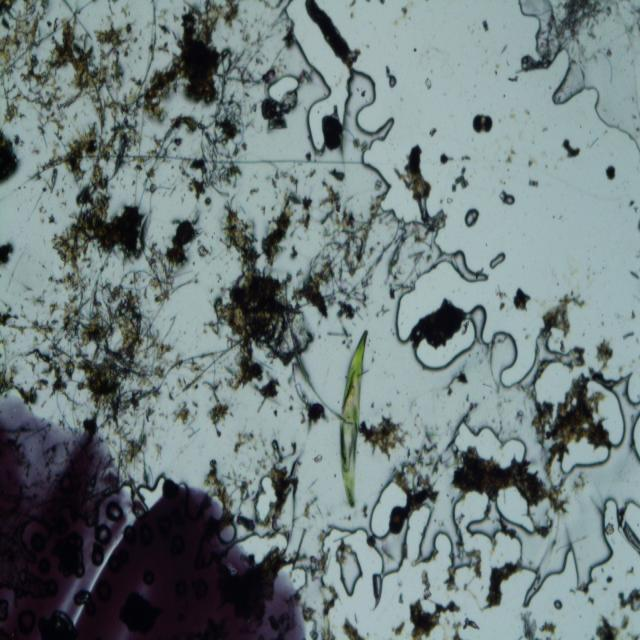Air bubble: (516, 0, 639, 153), (522, 492, 640, 612), (462, 303, 580, 400), (283, 0, 333, 158), (338, 66, 397, 191), (414, 486, 480, 570), (365, 526, 412, 607), (453, 418, 526, 467), (410, 318, 478, 368), (316, 520, 360, 597), (604, 372, 640, 454), (436, 240, 490, 290), (389, 276, 422, 348), (368, 478, 406, 539), (556, 442, 612, 476), (333, 536, 363, 598), (496, 488, 536, 532), (245, 529, 291, 562), (467, 500, 503, 542), (254, 474, 278, 522), (136, 472, 166, 504), (267, 74, 300, 103), (631, 411, 640, 464), (464, 207, 480, 227), (498, 190, 516, 207), (490, 252, 505, 269), (552, 598, 564, 610), (388, 74, 397, 88)
Background material: (42, 269, 167, 436), (214, 202, 322, 393), (141, 0, 250, 117), (298, 180, 380, 329), (144, 99, 252, 202), (54, 164, 149, 275), (45, 15, 146, 119), (26, 119, 144, 195), (458, 444, 568, 514), (535, 370, 615, 466), (0, 0, 57, 124), (521, 0, 605, 71), (141, 214, 204, 300), (389, 143, 446, 233), (288, 546, 339, 640), (393, 438, 444, 516), (304, 0, 361, 65), (261, 190, 300, 267), (166, 347, 220, 401), (0, 302, 56, 345), (272, 456, 301, 531), (28, 342, 68, 396), (361, 418, 412, 460), (409, 598, 459, 640), (116, 427, 150, 484), (484, 559, 520, 612), (258, 89, 300, 130), (381, 221, 410, 278), (0, 364, 38, 405), (296, 385, 327, 434), (204, 458, 232, 510), (392, 249, 424, 294), (253, 371, 281, 414), (0, 129, 22, 183), (590, 336, 612, 383), (174, 399, 201, 436), (245, 28, 273, 61), (518, 608, 543, 640), (412, 413, 438, 443), (300, 599, 319, 640), (322, 592, 338, 640), (208, 398, 228, 436), (615, 583, 640, 613), (619, 523, 640, 554), (596, 612, 619, 640), (325, 329, 355, 350), (408, 225, 434, 249), (446, 367, 468, 395), (342, 616, 366, 640), (238, 477, 255, 510), (299, 195, 314, 232), (558, 290, 586, 309), (625, 4, 640, 39), (233, 430, 253, 456), (293, 530, 306, 570), (418, 570, 432, 603), (310, 558, 330, 580), (0, 241, 16, 267), (443, 566, 459, 592), (270, 168, 290, 188), (205, 380, 225, 400), (514, 288, 531, 310), (272, 439, 286, 464), (260, 67, 280, 84), (304, 498, 320, 519), (282, 24, 295, 49), (563, 140, 581, 158), (573, 473, 587, 496), (326, 166, 346, 182), (538, 519, 554, 539), (28, 292, 46, 308), (239, 516, 257, 532), (464, 615, 480, 632), (538, 620, 557, 634), (298, 68, 314, 84), (390, 621, 407, 636), (438, 151, 456, 165), (258, 449, 270, 469), (604, 164, 618, 181), (156, 40, 172, 54), (452, 620, 463, 640), (38, 202, 48, 224), (152, 442, 164, 460), (0, 334, 8, 361), (604, 517, 614, 538), (494, 284, 508, 299), (503, 148, 516, 164), (198, 245, 210, 262), (288, 174, 300, 191), (620, 612, 630, 632), (157, 22, 171, 35), (143, 407, 155, 421), (12, 133, 24, 147), (124, 23, 136, 37), (288, 244, 298, 260), (376, 306, 388, 319), (122, 0, 130, 19), (628, 268, 640, 280), (366, 533, 377, 546), (106, 0, 117, 13), (171, 135, 185, 145), (624, 565, 636, 576), (622, 330, 634, 341), (467, 400, 479, 411), (130, 75, 142, 86), (146, 168, 157, 180), (247, 100, 257, 113), (461, 580, 471, 593), (19, 282, 32, 292), (629, 200, 639, 213), (248, 186, 262, 195), (527, 156, 538, 167), (290, 441, 298, 456), (589, 137, 599, 149), (306, 168, 318, 178), (258, 432, 266, 447), (424, 76, 432, 91), (397, 591, 405, 605), (157, 10, 167, 21), (626, 632, 639, 640), (516, 410, 524, 423), (428, 127, 437, 138), (299, 411, 306, 425), (508, 75, 520, 83), (48, 213, 56, 225), (586, 265, 592, 281), (123, 45, 130, 58), (568, 587, 578, 596), (314, 453, 323, 463), (31, 146, 41, 155), (502, 396, 513, 404), (461, 154, 472, 162), (605, 575, 613, 585), (401, 6, 409, 16), (254, 58, 264, 66), (363, 504, 368, 519), (446, 196, 454, 205), (159, 412, 168, 420), (392, 18, 401, 26), (46, 18, 54, 27), (172, 14, 180, 23), (498, 418, 503, 432), (405, 447, 411, 458), (216, 271, 222, 282), (306, 151, 312, 162), (606, 5, 612, 16), (501, 44, 507, 55), (635, 246, 640, 259), (523, 332, 531, 340), (523, 108, 531, 116), (205, 197, 212, 206), (342, 515, 352, 521), (150, 184, 156, 194), (359, 90, 366, 98), (587, 597, 595, 604), (192, 402, 200, 409), (60, 200, 68, 207), (636, 218, 640, 232), (499, 302, 505, 311), (16, 184, 22, 193), (496, 399, 502, 408), (508, 113, 517, 119), (252, 443, 258, 452), (288, 374, 292, 387), (631, 310, 636, 320), (349, 0, 356, 7), (384, 402, 392, 408), (370, 401, 376, 409), (289, 394, 295, 402), (498, 179, 506, 185), (288, 404, 294, 412), (514, 69, 522, 75), (272, 410, 278, 418), (465, 393, 470, 402), (428, 254, 433, 263), (606, 49, 612, 56), (438, 197, 444, 204), (412, 46, 418, 53), (558, 156, 564, 162), (394, 389, 400, 395), (603, 130, 609, 136), (56, 189, 60, 198), (378, 0, 385, 5), (255, 468, 260, 475), (371, 355, 375, 363), (350, 10, 354, 18), (493, 70, 498, 76), (506, 60, 511, 66), (558, 215, 564, 220), (543, 126, 548, 132), (60, 187, 64, 194), (496, 63, 500, 70), (394, 32, 398, 39), (42, 264, 46, 270), (545, 162, 549, 168), (229, 412, 233, 418), (548, 84, 552, 90), (636, 338, 640, 344), (210, 288, 214, 294), (333, 473, 337, 478), (601, 265, 605, 270), (506, 167, 510, 172), (498, 118, 502, 123), (430, 69, 434, 74), (408, 15, 412, 20), (592, 271, 596, 276), (552, 214, 556, 219), (365, 0, 371, 3), (416, 449, 419, 455), (485, 48, 488, 53), (474, 94, 477, 99), (508, 174, 510, 180), (503, 94, 506, 98), (580, 123, 582, 128), (458, 62, 460, 66)
Diatom: (388, 503, 405, 534), (471, 112, 493, 133), (526, 178, 540, 187), (352, 137, 361, 149), (374, 179, 382, 191), (360, 140, 368, 152), (454, 176, 464, 184), (461, 180, 469, 189), (285, 272, 291, 283), (482, 20, 488, 31), (353, 613, 359, 623), (461, 165, 467, 175), (452, 183, 456, 192)
Natural material: (339, 330, 369, 507)
